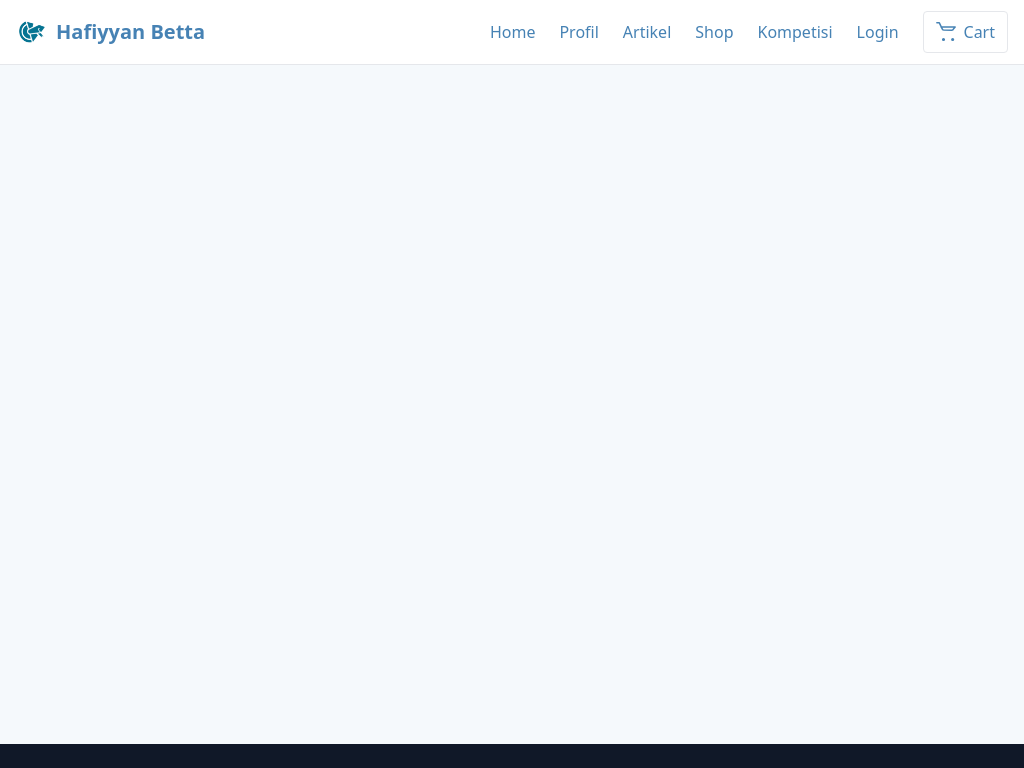
Test: Layout integration › toggles CartModal via Navbar Cart button
This screenshot has width=1024, height=768.
Click the button "Cart": click(965, 32) [922,11,1008,53]
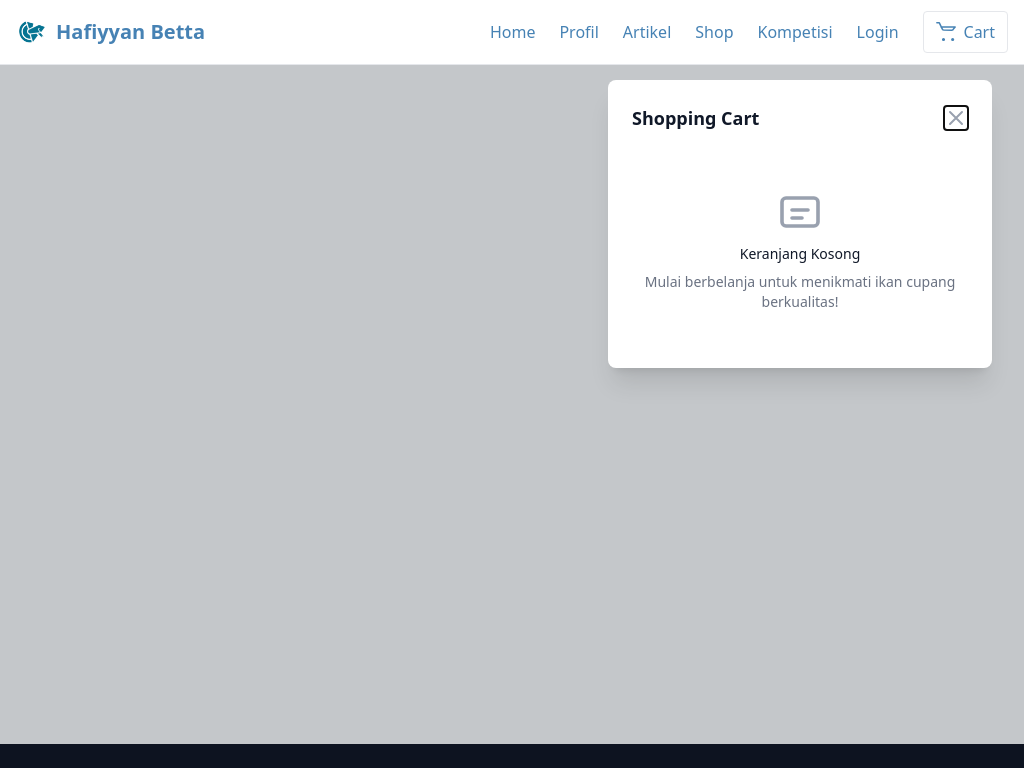
expect the heading "Keranjang Kosong" is shown: met, box [740,244,860,263]
